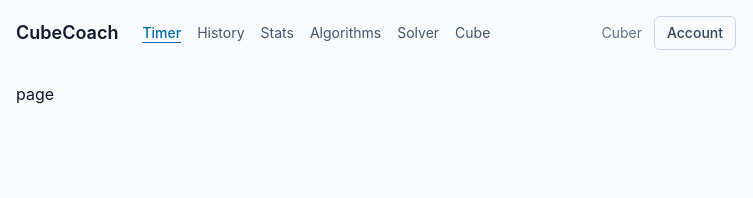
Test case: account menu › closes on a click anywhere else
Click the button "Account": (695, 33) 654,16 -> 736,50
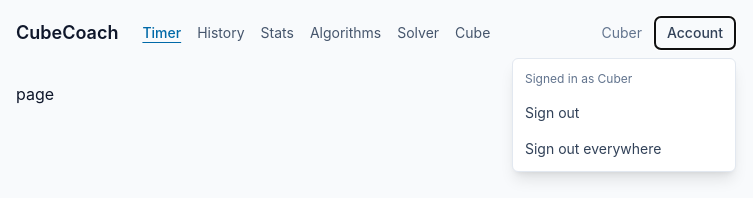
Click the text "page": (35, 94) 16,84 -> 54,104
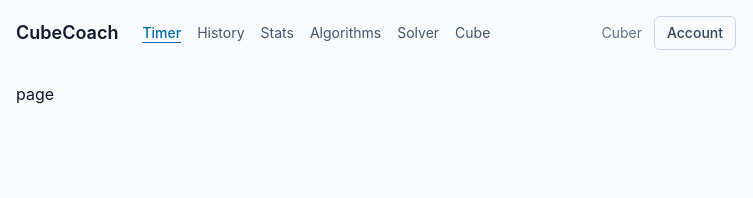
Expected: the button "Sign out" is gone
